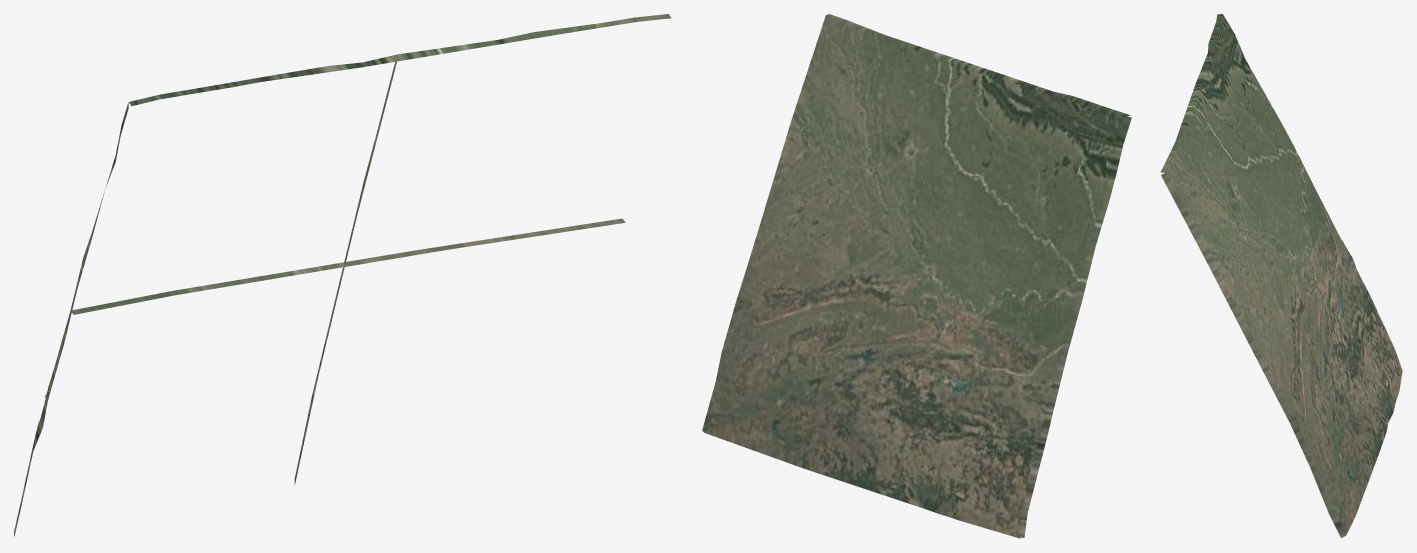
The picture shows the model from 3 angles, left to right: view 1: azimuth 30°, elevation 25°; view 2: azimuth 150°, elevation 25°; view 3: azimuth 270°, elevation 25°; orthographic projection. The views are drawn at different scales.
Bounding box in the file's own units: 605644 × 572544 × 355476.
Materials: 1 (1 with a texture image).
